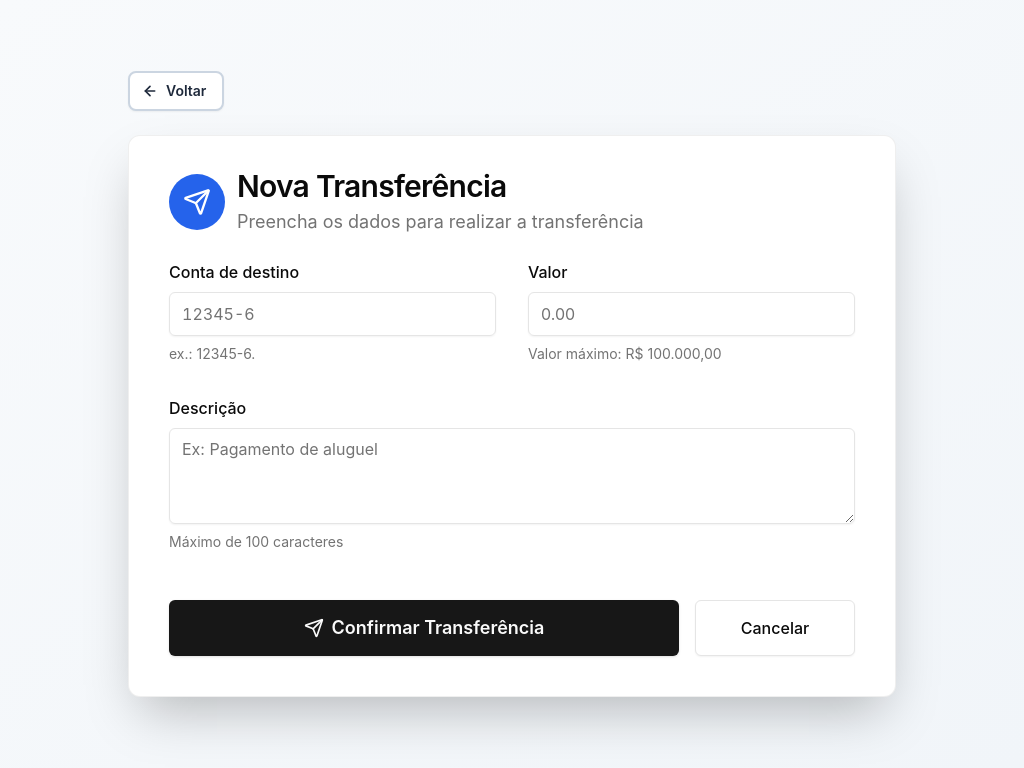
Fluxo de Transferência › deve validar valor mínimo
Type "98765-4" into the field with placeholder "12345-6" at (332, 314), box left=169, top=292, right=496, bottom=336
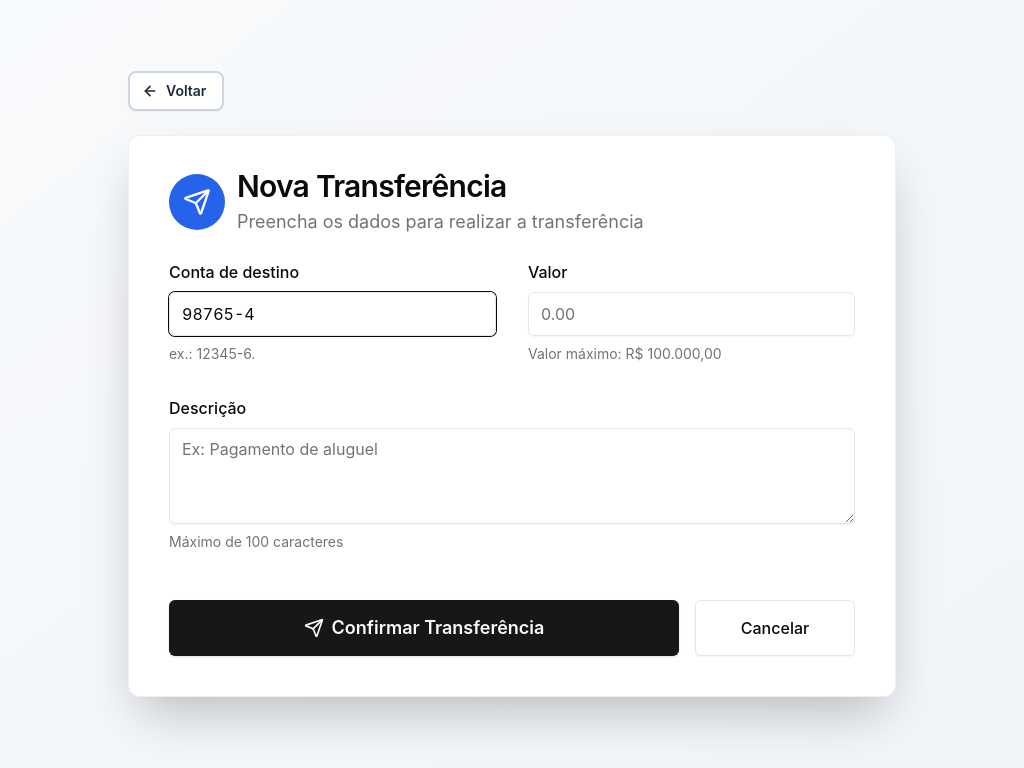
Type "0" into the number field with placeholder "0.00" at (692, 314), box left=528, top=292, right=855, bottom=336
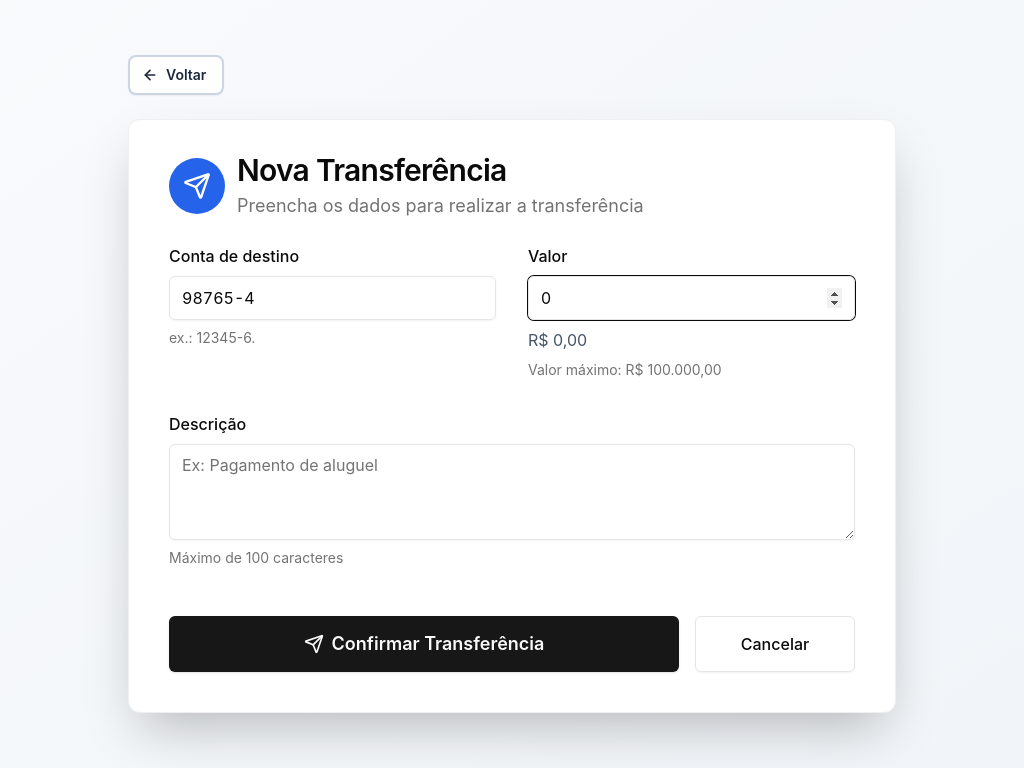
Type "Teste" into the text box with placeholder "Ex: Pagamento de aluguel" at (512, 492), box left=169, top=444, right=855, bottom=540
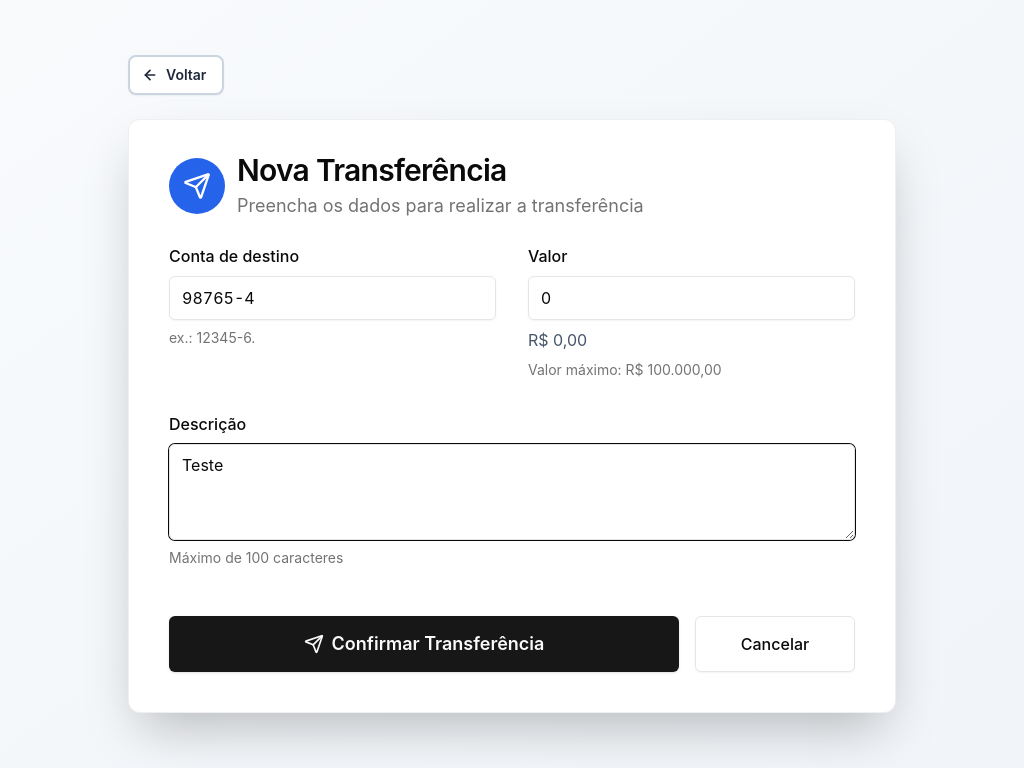
Click the button "Confirmar Transferência" at (424, 644), box left=169, top=616, right=679, bottom=672
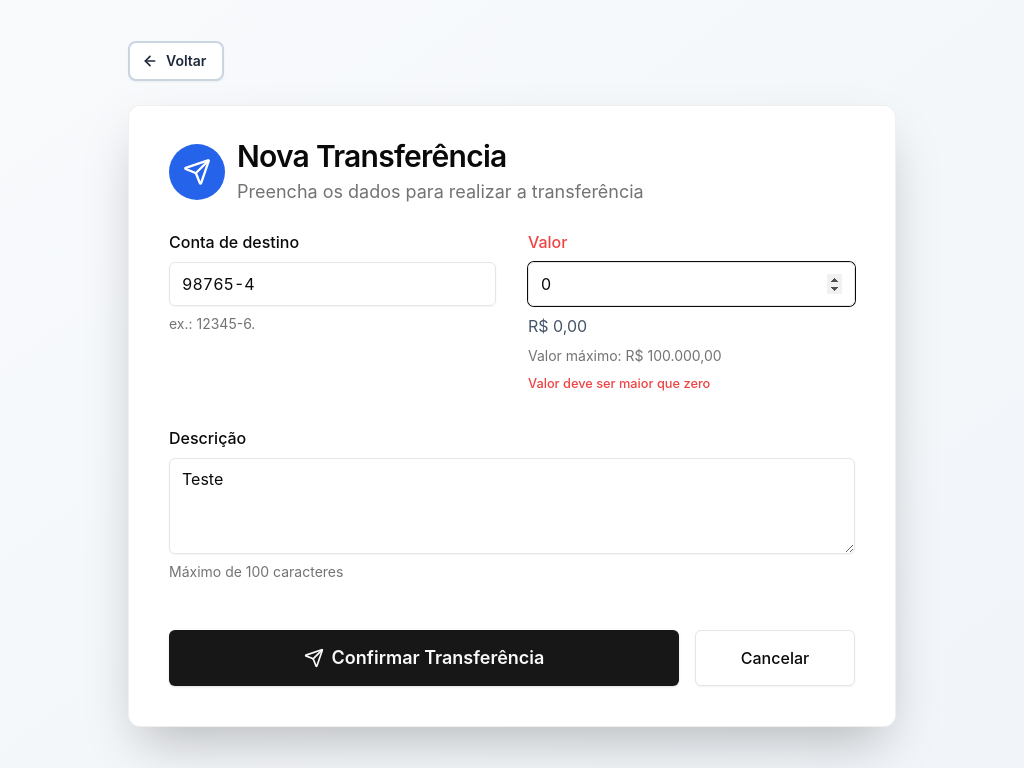
Expected: the text "Valor deve ser maior que zero" is shown, left=528, top=376, right=710, bottom=391
